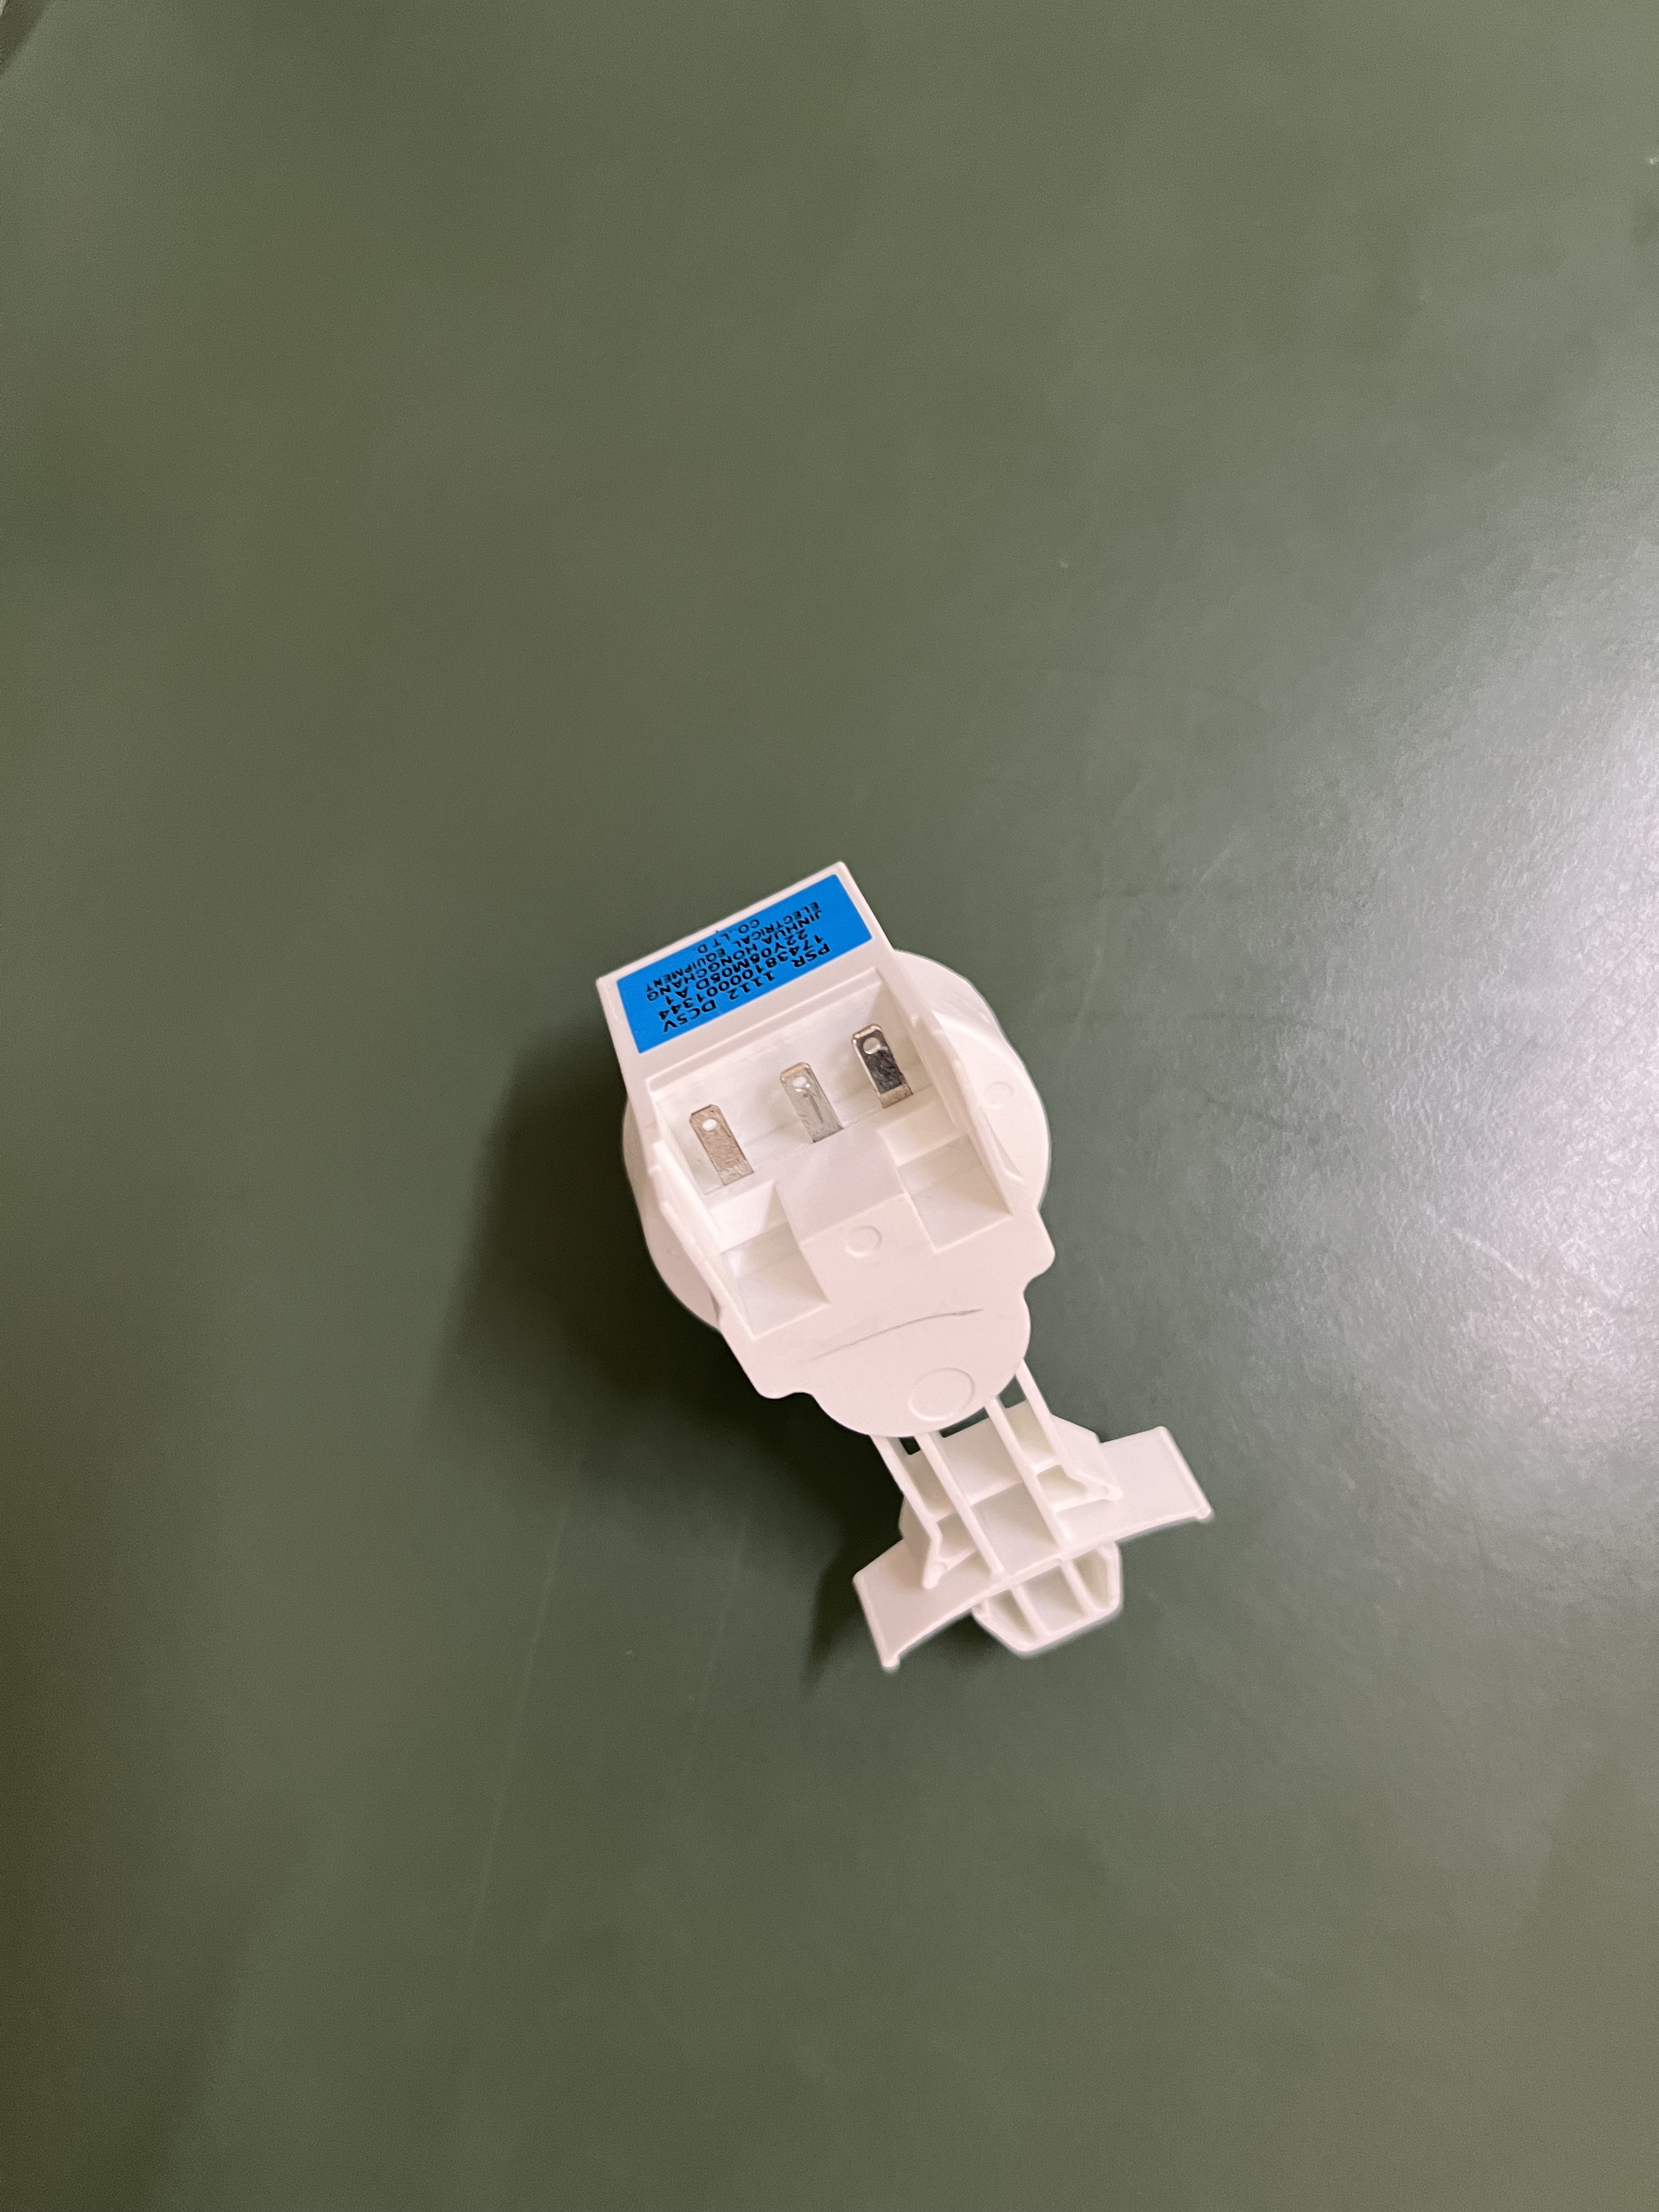pressure_switch_1: (591, 848, 1229, 1721)
